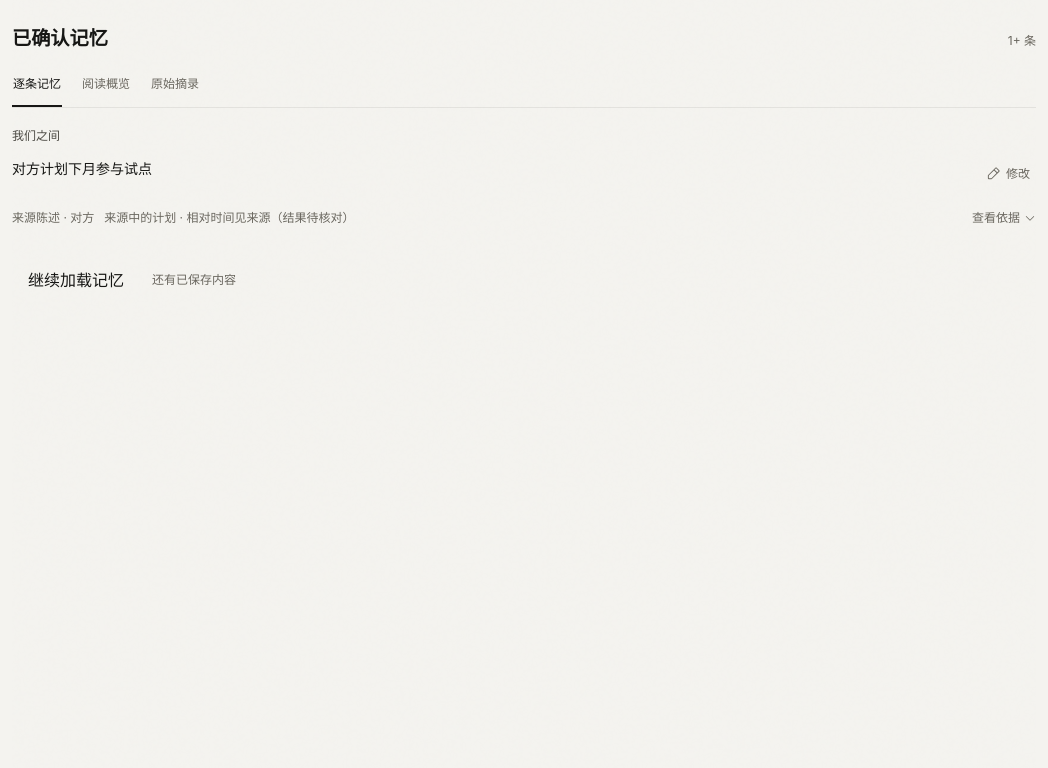
person document interactions › loads remaining data and focuses the first appended item in 原始摘录
Click the button "原始摘录".
click(175, 85)  # box left=150, top=63, right=200, bottom=107
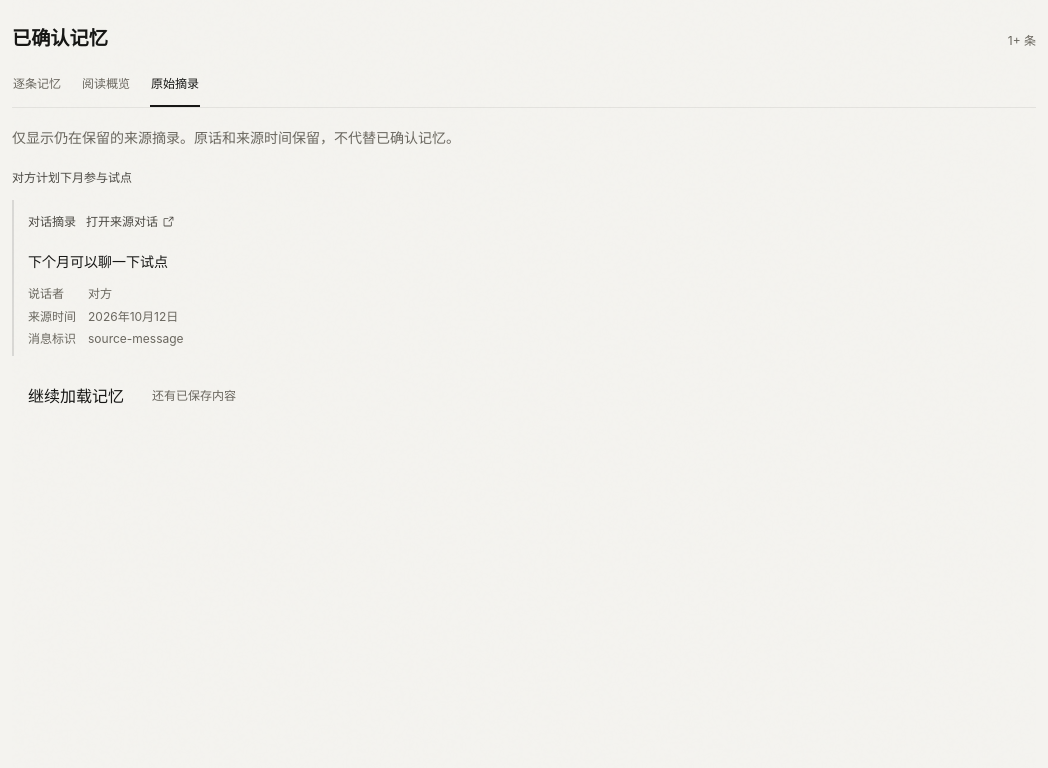
Click the button "继续加载记忆".
click(76, 396)  # box left=12, top=374, right=140, bottom=418
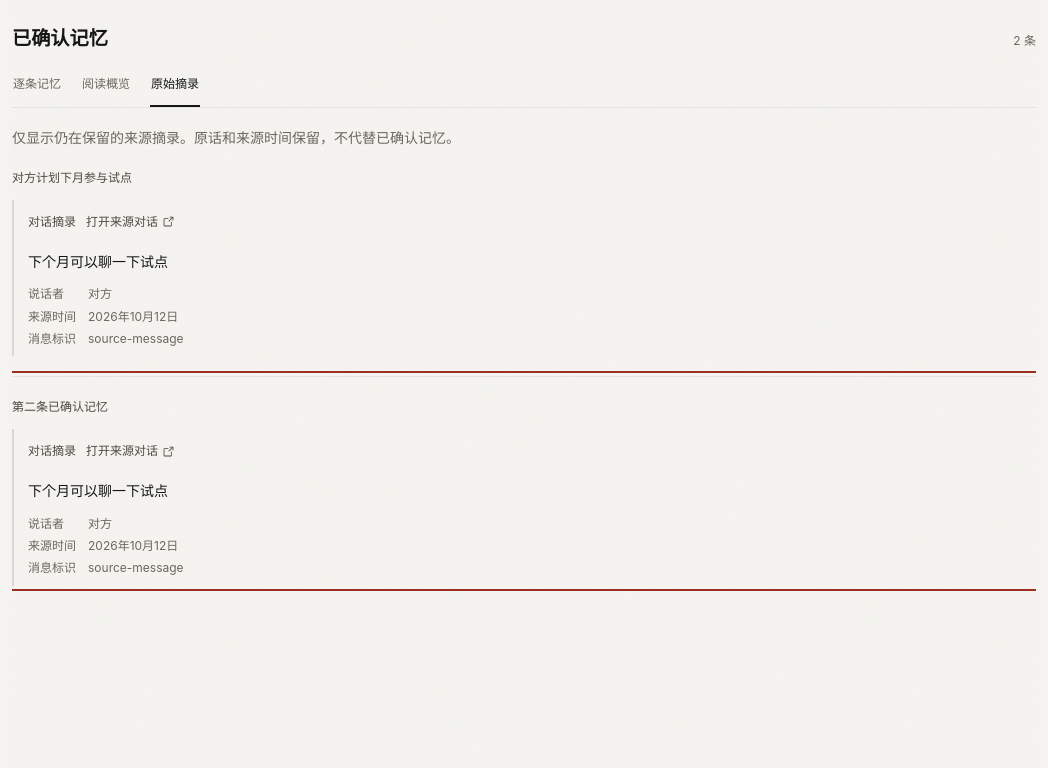
expect the text "第二条已确认记忆" is shown: met, box left=12, top=399, right=108, bottom=414
expect the text "2 条" is shown: met, box left=1013, top=32, right=1036, bottom=50
